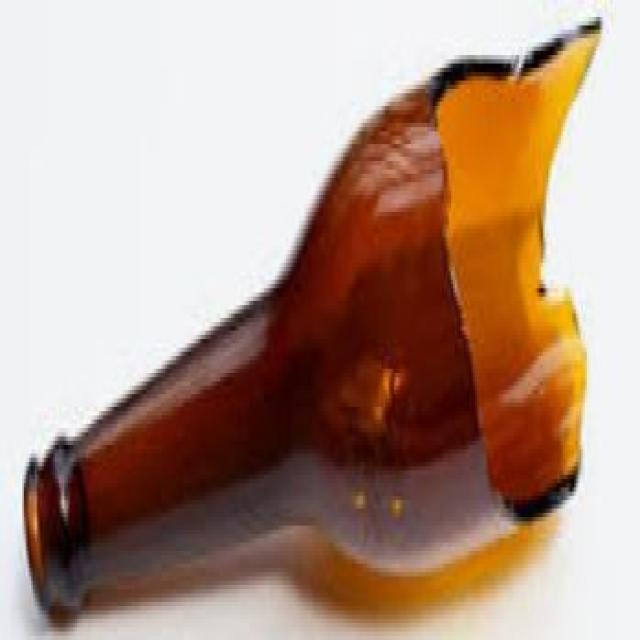electronic: (21, 10, 602, 640)
